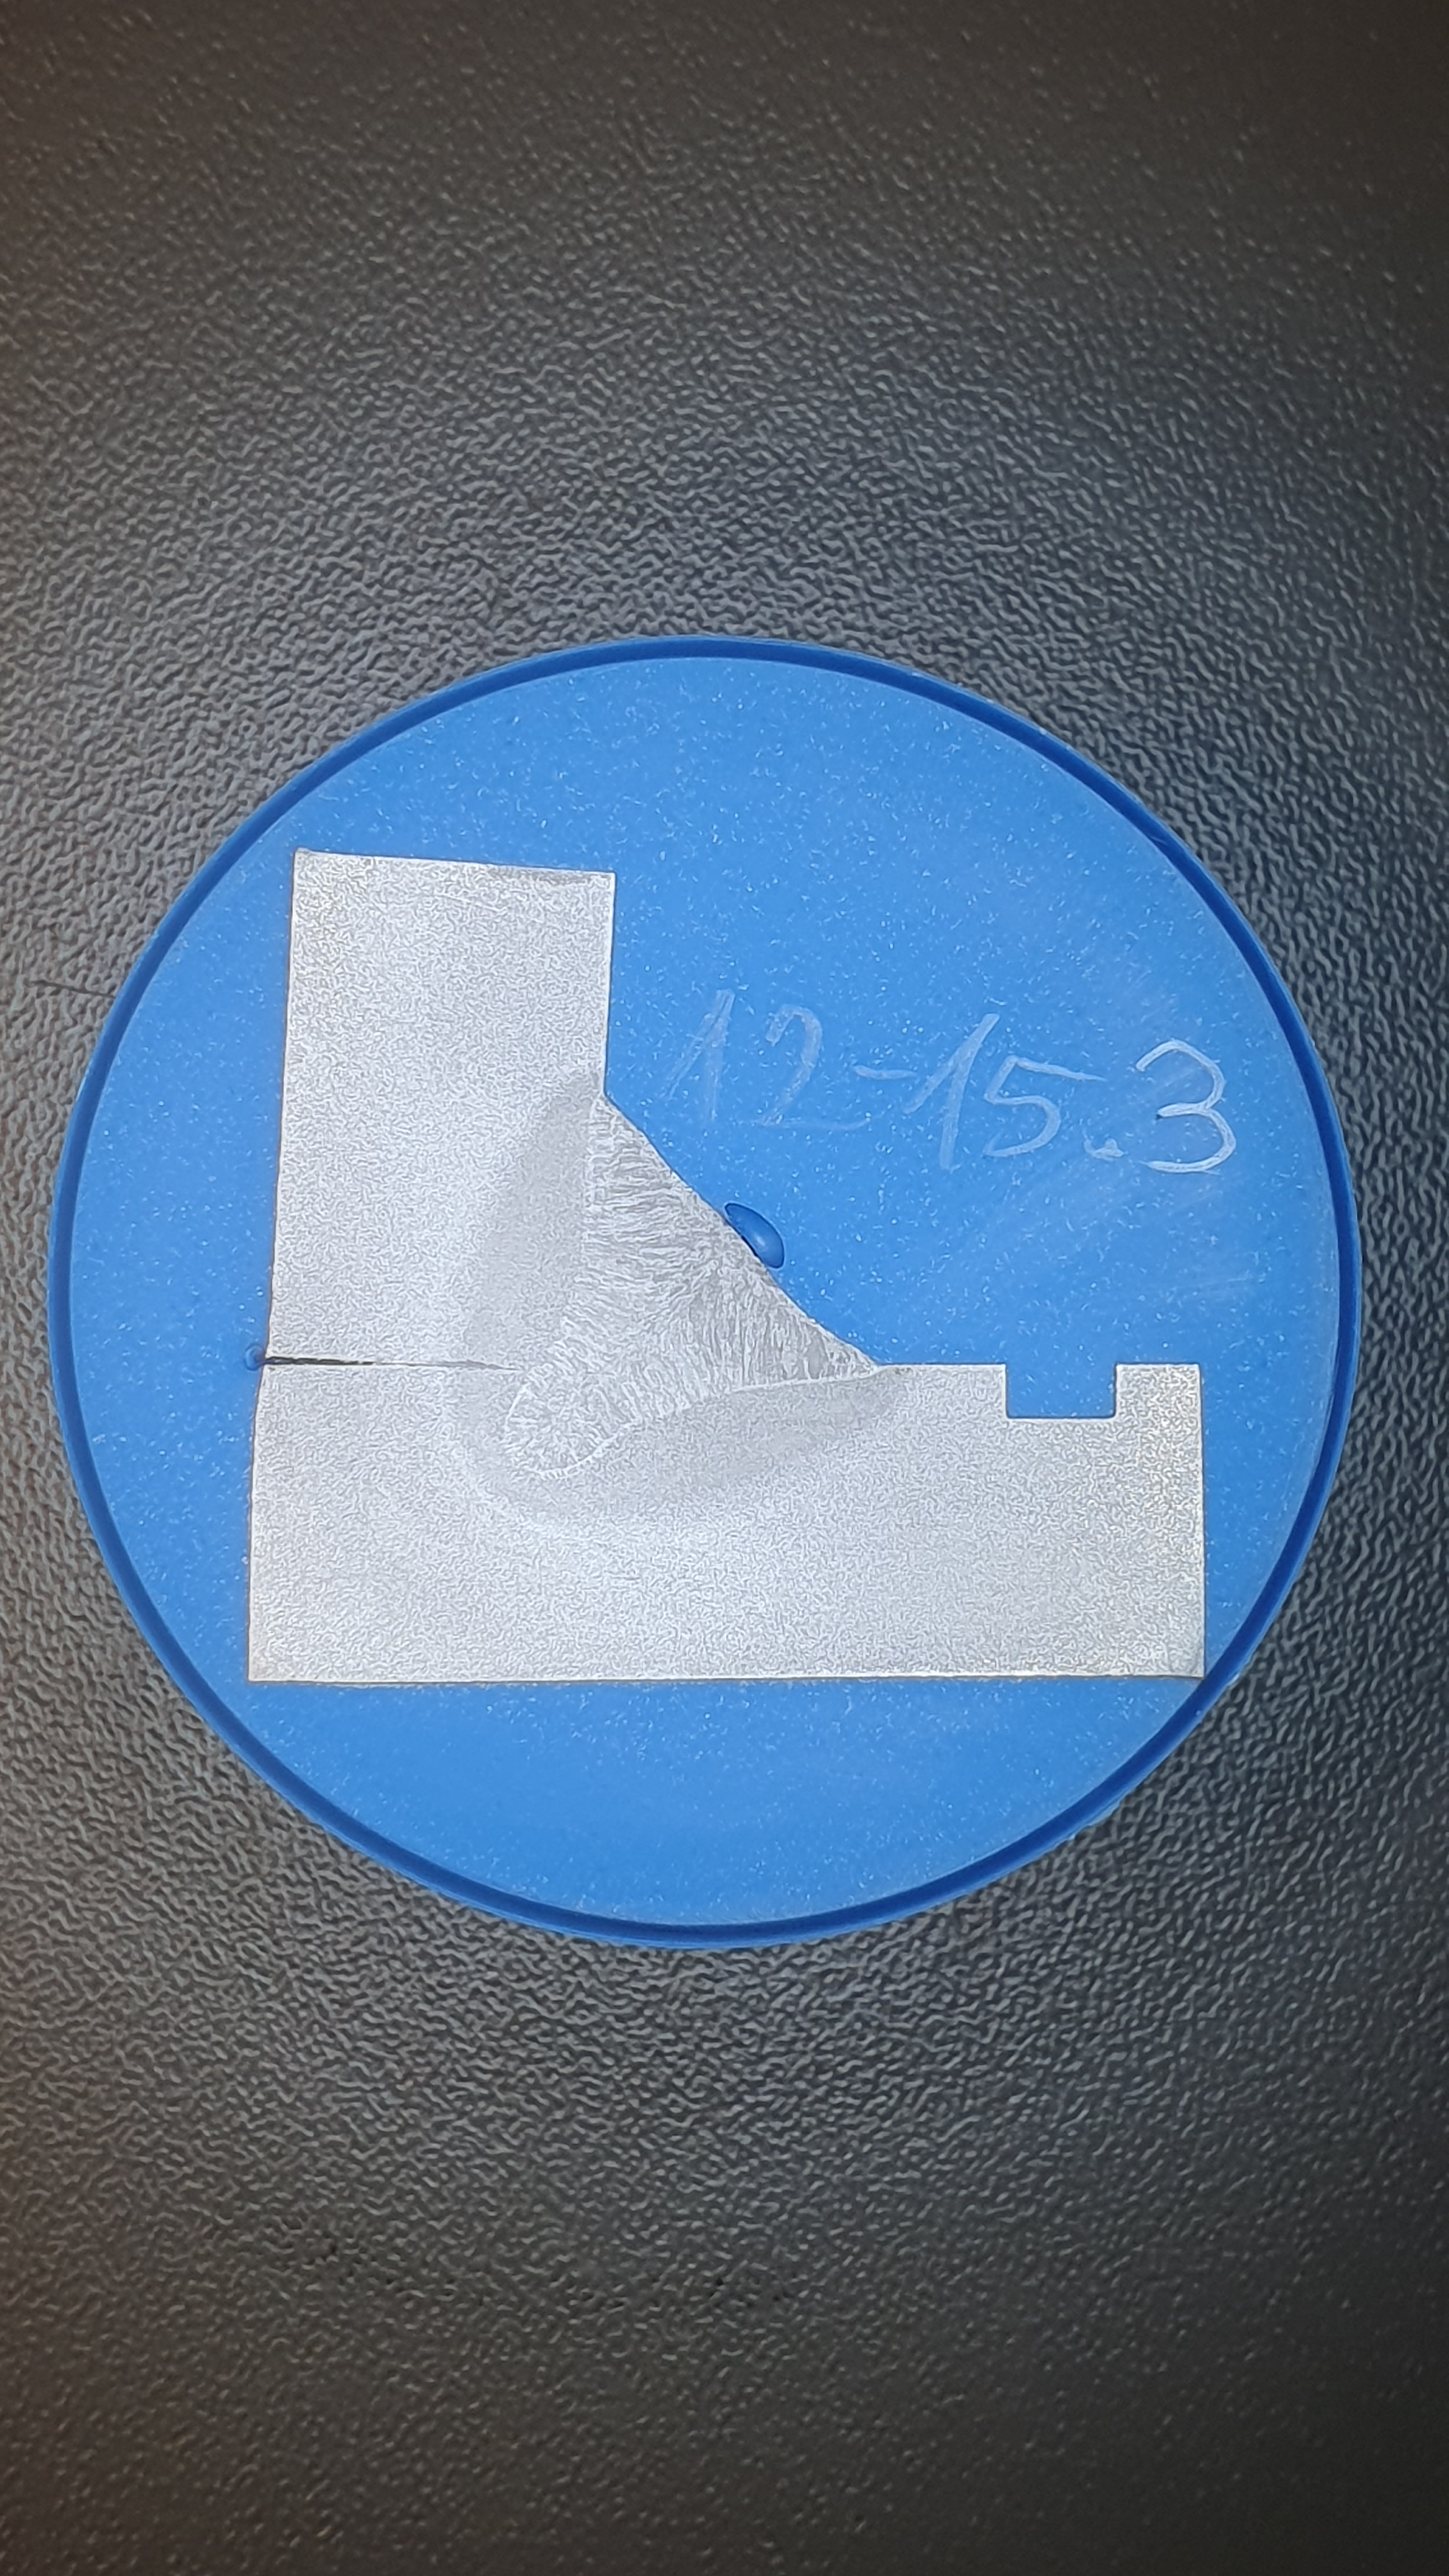Fusion: (502, 1092, 881, 1474)
Hintergrund: (71, 653, 1338, 1925)
Metall: (248, 847, 1205, 1683)
Nebenbereich: (437, 1060, 918, 1534)
